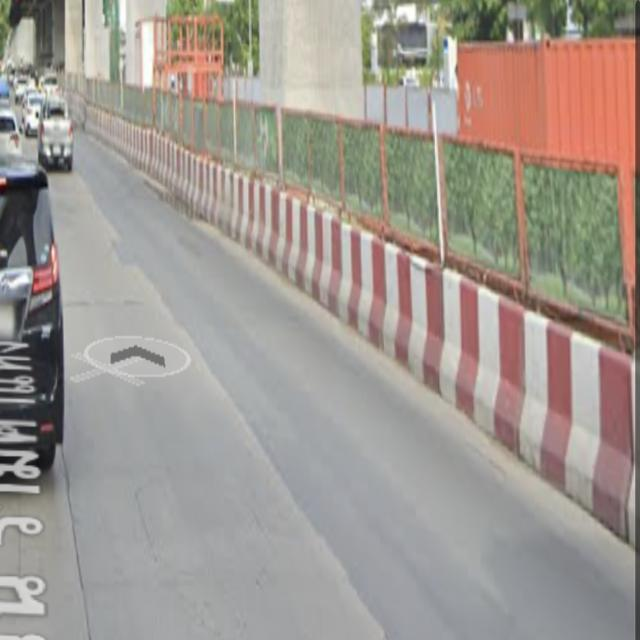fallen_object: (435, 270, 637, 536), (302, 219, 504, 420), (213, 156, 379, 322), (135, 119, 241, 236), (77, 93, 154, 171)
